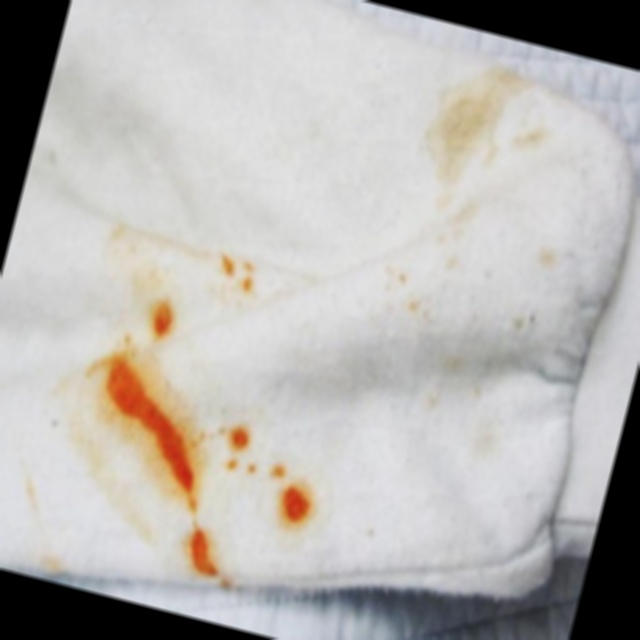kimchi: (31, 334, 342, 606), (333, 236, 561, 471), (389, 50, 578, 250), (203, 242, 276, 311), (137, 281, 194, 350)
